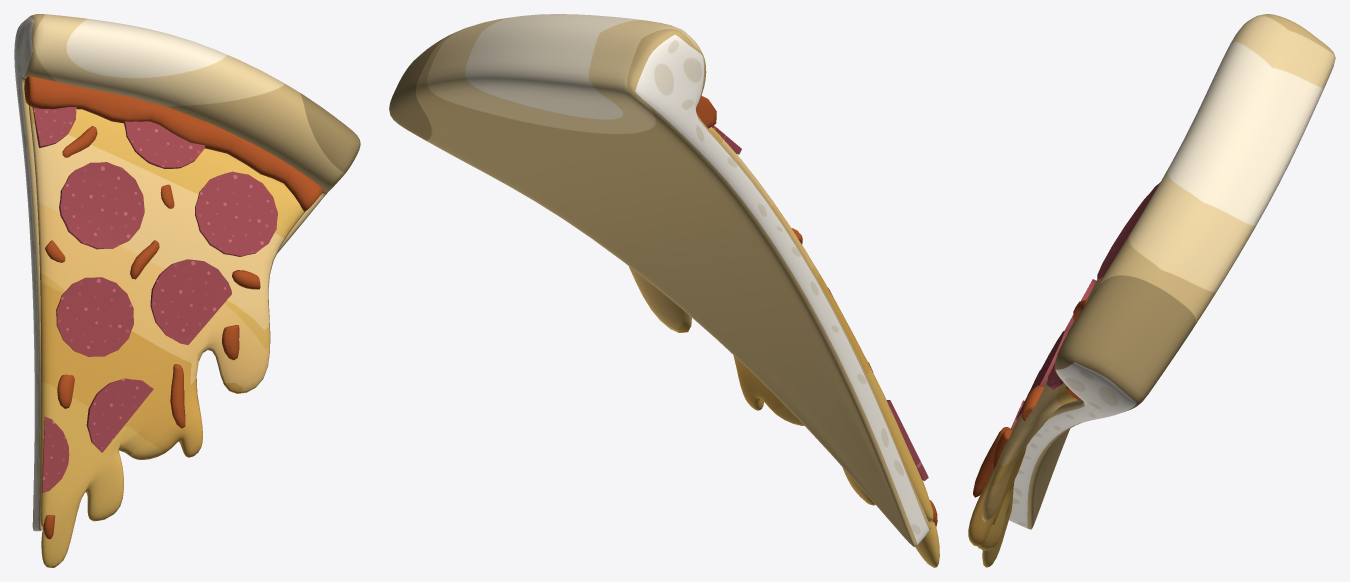
The picture shows the model from 3 angles, left to right: view 1: azimuth 30°, elevation 25°; view 2: azimuth 150°, elevation 25°; view 3: azimuth 270°, elevation 25°; orthographic projection. The views are drawn at different scales.
Parts seen in each view (by area): view 1: Cheese_4, Dough_3, Sause.001_5, Salami 1_6, Salami 4_11, Salami 6_8, Salami 5_7, Sause.002_14, Salami 7_9, Salami 3_12, Salami 8_10, Salami 2_13; view 2: Dough_3, Cheese_4; view 3: Dough_3, Cheese_4, Sause.002_14, Salami 1_6, Salami 5_7.
Part boxes in pixels (x1,y1,x2,y2): Cheese_4: (29,105,304,567); Dough_3: (14,14,360,531); Sause.001_5: (24,76,323,211); Salami 1_6: (59,162,144,249); Salami 4_11: (195,171,277,256); Salami 6_8: (56,277,133,356); Salami 5_7: (150,259,231,344); Sause.002_14: (43,126,260,539); Salami 7_9: (86,378,153,452); Salami 3_12: (124,121,205,168); Salami 8_10: (42,416,69,493); Salami 2_13: (32,107,76,147); Dough_3: (389,14,930,546); Cheese_4: (628,127,939,567); Dough_3: (1009,14,1335,529); Cheese_4: (968,280,1099,567); Sause.002_14: (973,299,1088,497); Salami 1_6: (1097,182,1160,281); Salami 5_7: (1016,330,1067,420).
Size of the model in its own units: 3.98 by 4.83 by 2.63.
Materials: 4 (3 with a texture image).
